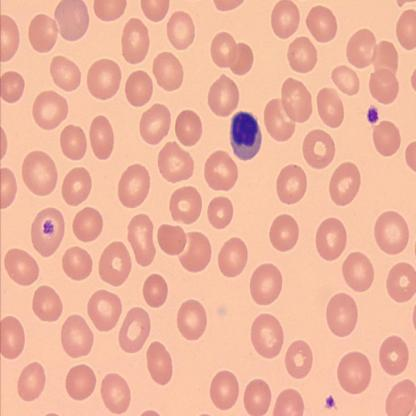NRC: (228, 107, 262, 162)
